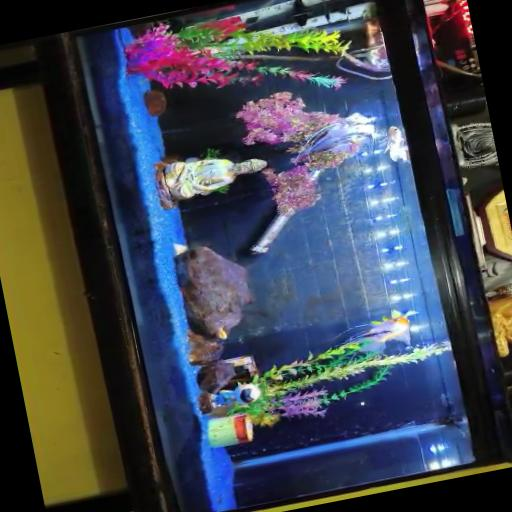Fish: (340, 310, 415, 351), (383, 126, 407, 161)
